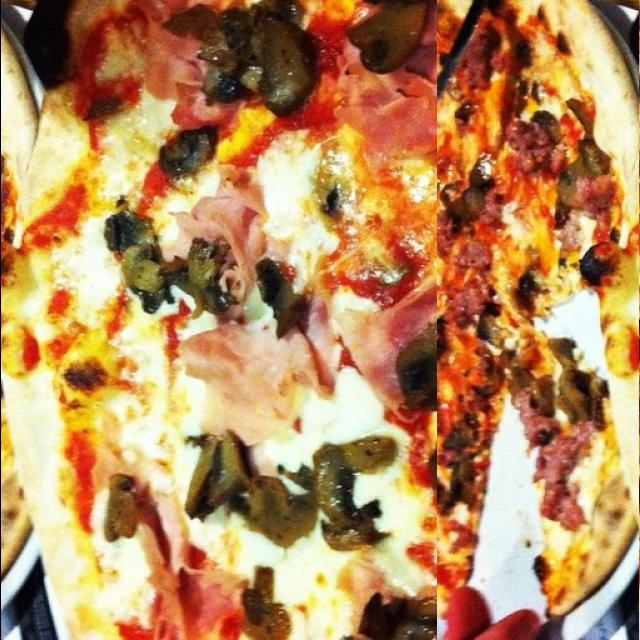pizza: (0, 0, 468, 640), (436, 0, 638, 640)
